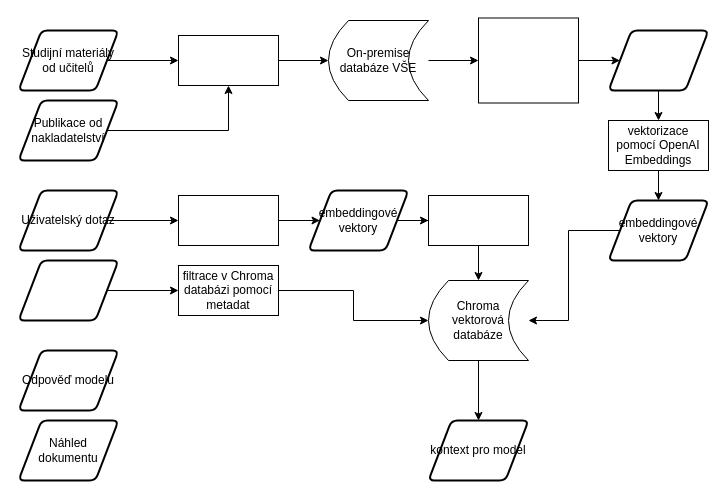
This 726x498 diagram has some shape labels left out. The centre of each missing label's shape, as x and y in pixels:
chunky s metadaty: [658,60]
extrakce metadat, zpracování a chunking pomocí Unstructured a vlastních funkcí: [528,60]
sémantické vyhledávání: [478,220]
tokenizace a vektorizace: [228,220]
uložení a přejmenování: [228,60]
Uživatelské filtry: [68,290]
